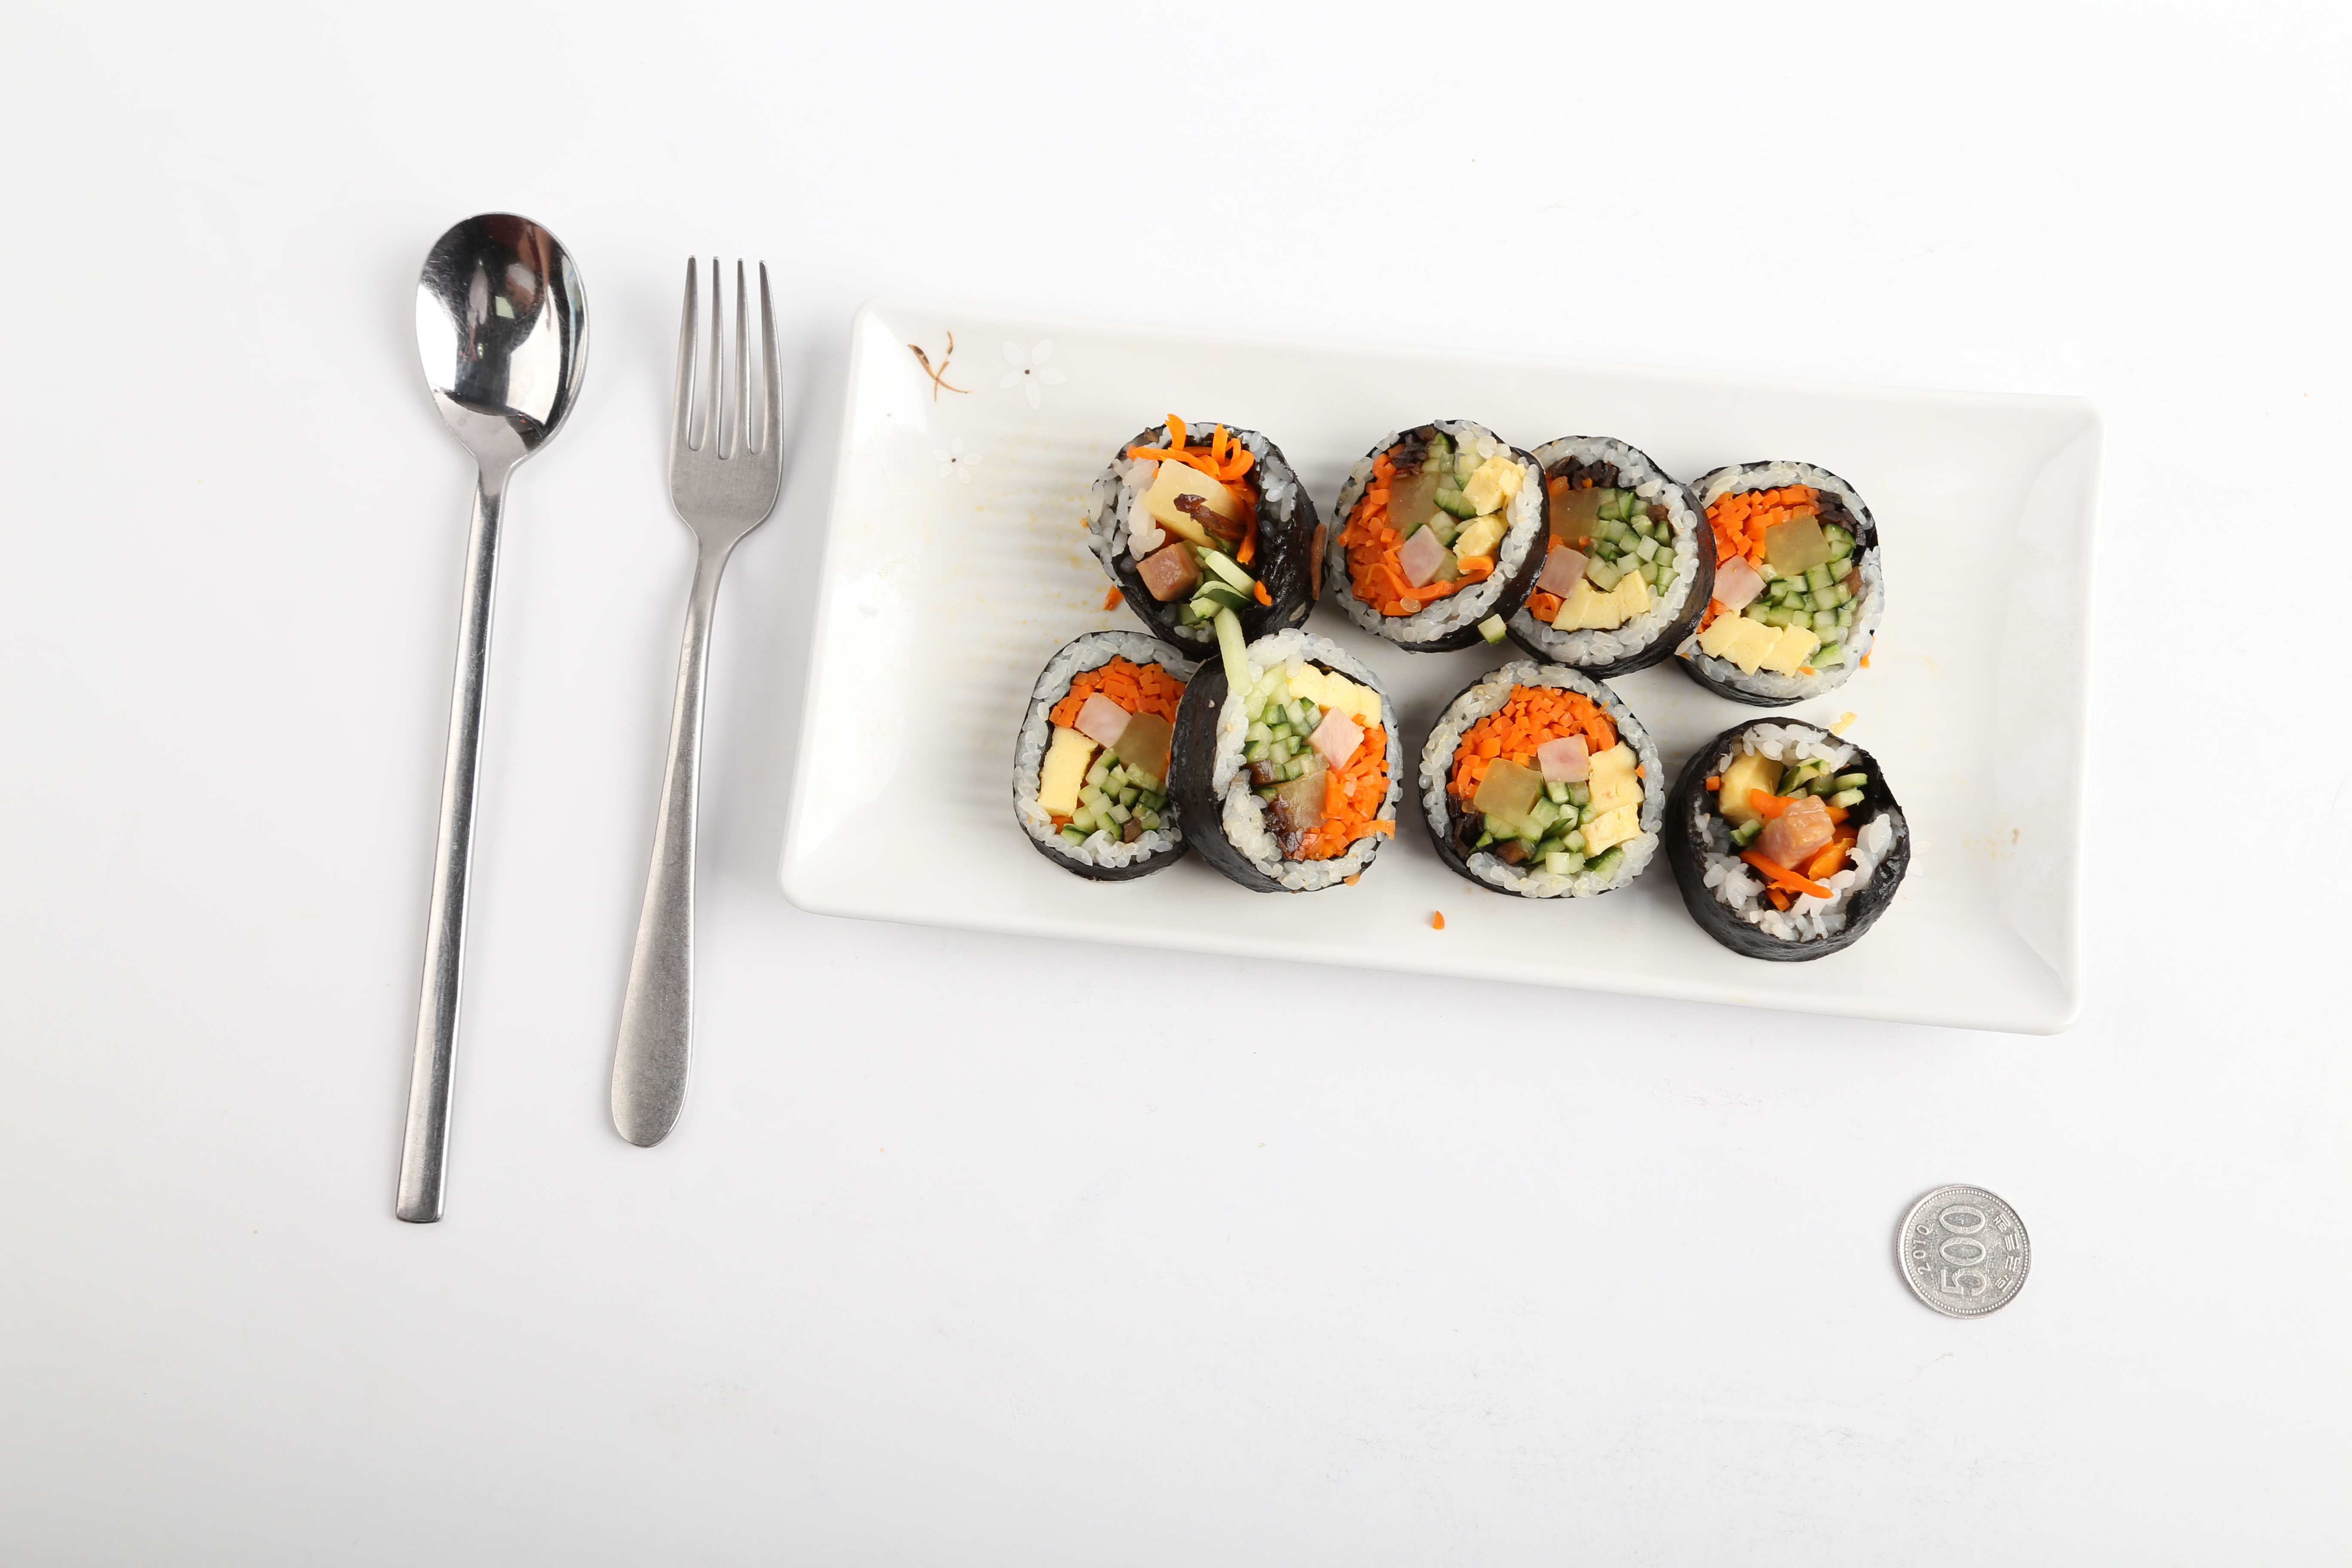dish: (775, 301, 2100, 1032)
ref_coin: (1888, 1178, 2035, 1325)
ref_fork: (660, 245, 789, 588)
ref_spoon: (411, 203, 595, 513)
김밥: (1006, 411, 1911, 966)
